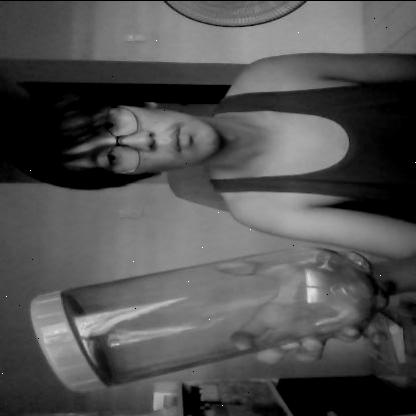Plastic Bottle: (24, 242, 386, 399)
